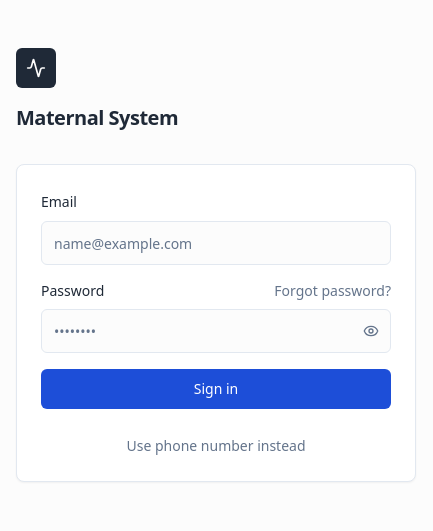
Test: Login Flow › shows error message on failed login (incorrect password)
This screenshot has width=433, height=531.
// Fill in credentials
Type "test@example.com" into the field with id "identifier" at [216, 243], box top-left (41, 221), bottom-right (391, 265)
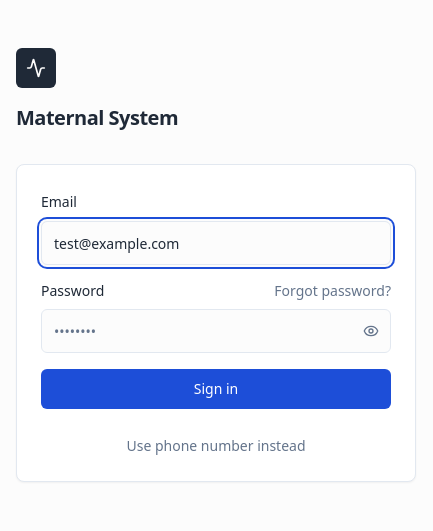
Type "WrongPassword123" into the password field labelled "Password" at [216, 331], box top-left (41, 309), bottom-right (391, 353)
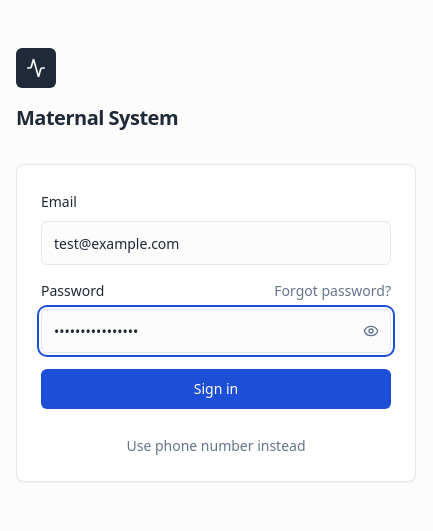
Click the button with id "login-submit" at [216, 389], box top-left (41, 369), bottom-right (391, 409)
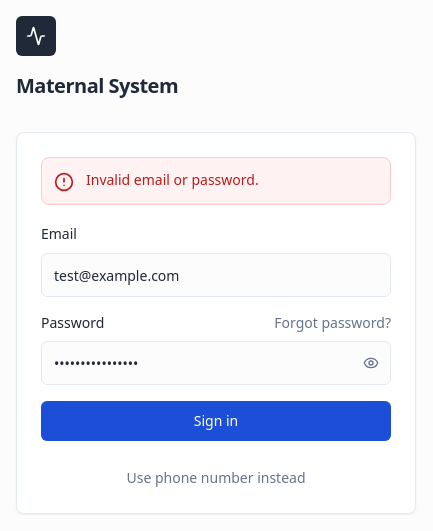
Check: the message with id "login-error" shows "Invalid email or password", box top-left (41, 157), bottom-right (391, 205)
